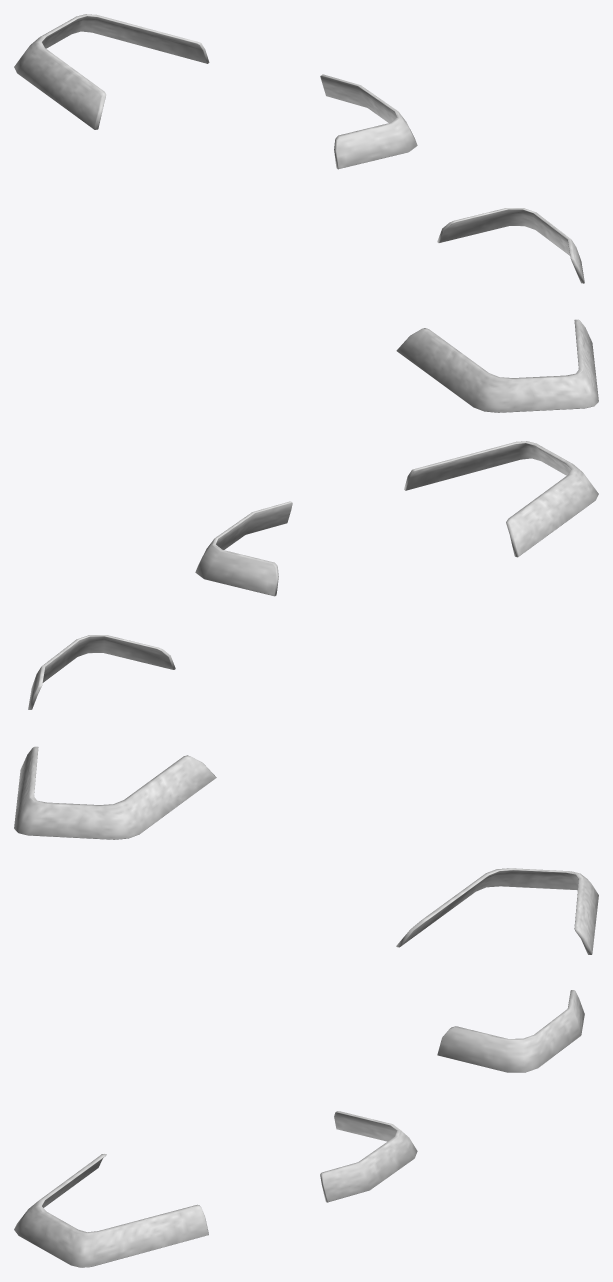
The model's file is pref_sm_beach_techobstacle03_glass_lv2.fbx.
3 renders of one model, top to bottom at view 1: azimuth 30°, elevation 25°; view 2: azimuth 150°, elevation 25°; view 3: azimuth 330°, elevation 25°, orthographic.
Visible parts, largest first — view 1: pref_sm_beach_techobstacle03_glass_lv2; view 2: pref_sm_beach_techobstacle03_glass_lv2; view 3: pref_sm_beach_techobstacle03_glass_lv2.
Boxes of the visible parts, left/top/right/bottom form: pref_sm_beach_techobstacle03_glass_lv2: left=14, top=14, right=598, bottom=412; pref_sm_beach_techobstacle03_glass_lv2: left=14, top=441, right=598, bottom=839; pref_sm_beach_techobstacle03_glass_lv2: left=14, top=868, right=598, bottom=1267.
Bounding box in the file's own units: 9.8 × 1.01 × 37.69.
